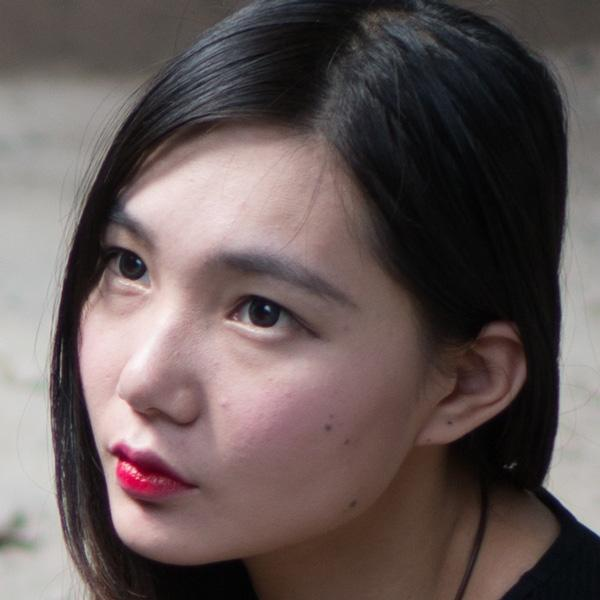Eyes: (214, 284, 318, 349), (92, 236, 159, 299)
